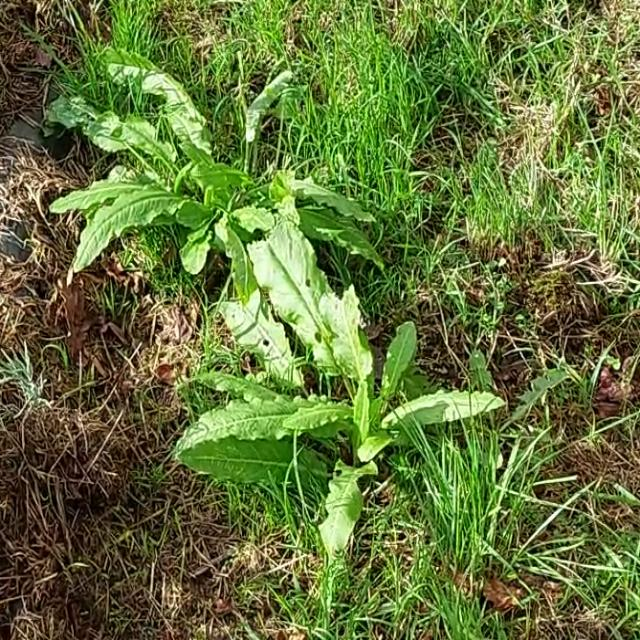organic waste: (35, 44, 420, 347), (151, 241, 527, 536)
